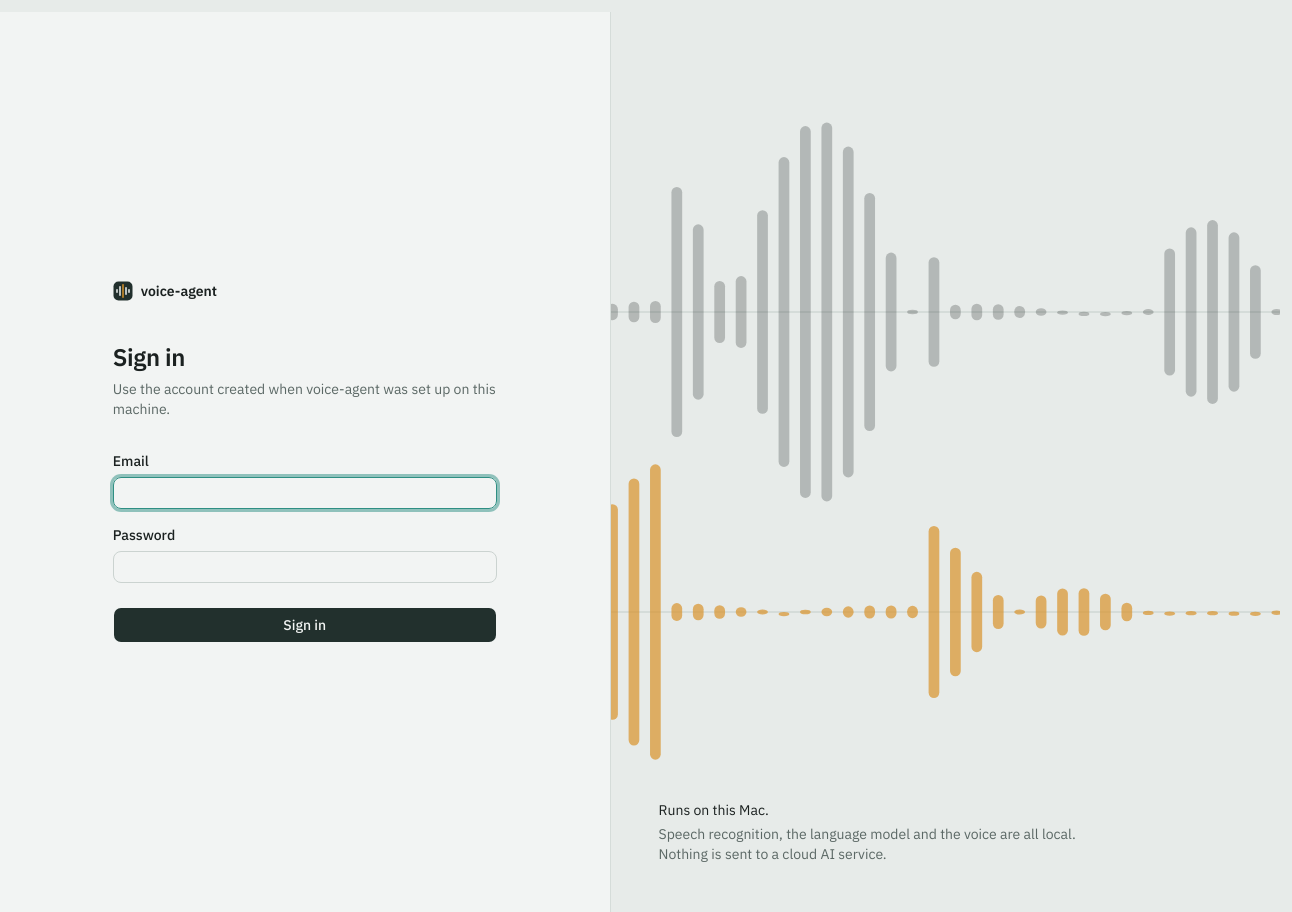
Test case: LoginPage › validates an empty form without calling the API
The width and height of the screenshot is (1292, 912).
Click the button "Sign in" at coordinates (305, 625), box [113, 607, 497, 643]
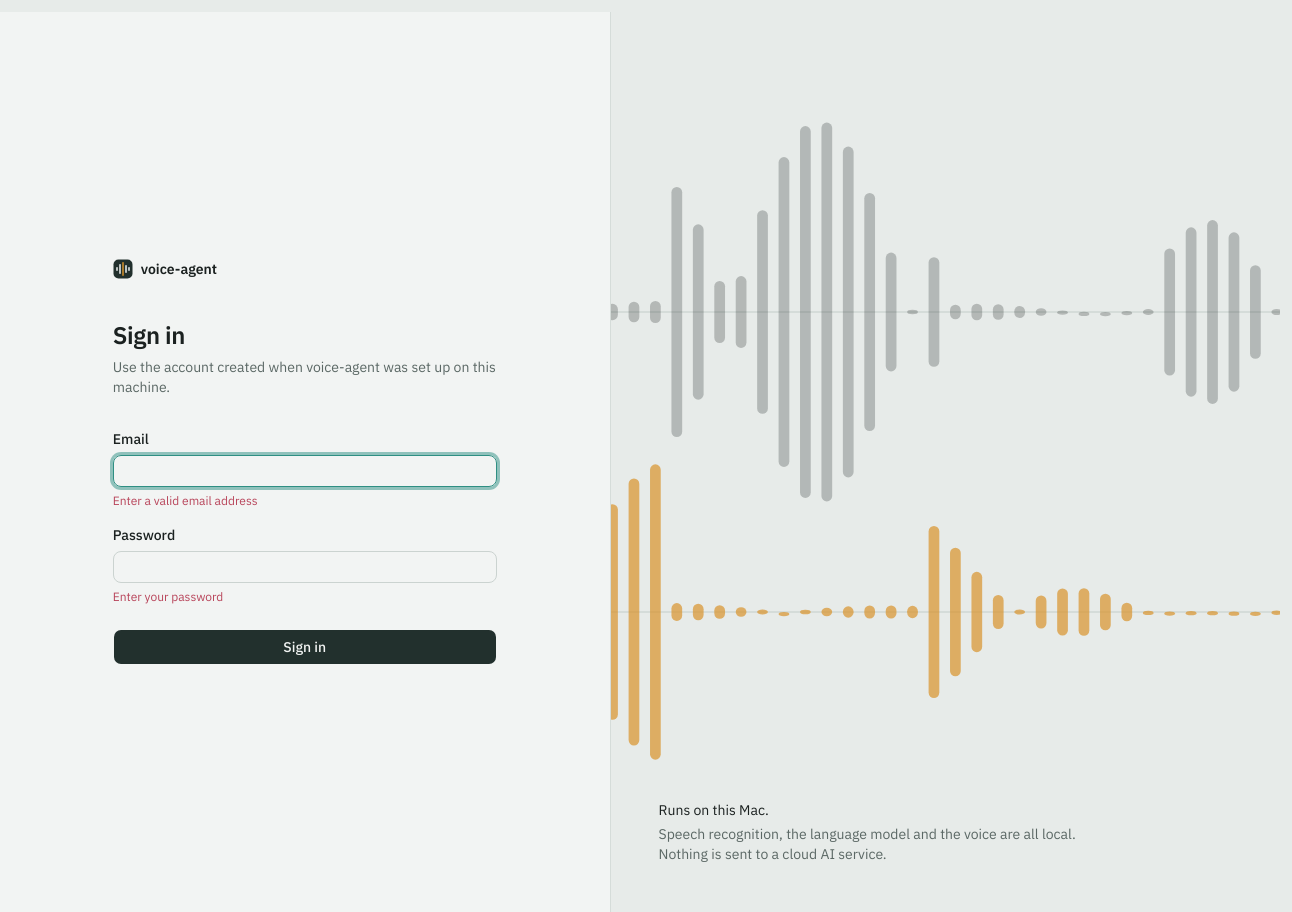
Now the text "Enter a valid email address" is shown, box [113, 493, 258, 508]
Now the text "Enter your password" is shown, box [113, 589, 223, 604]
